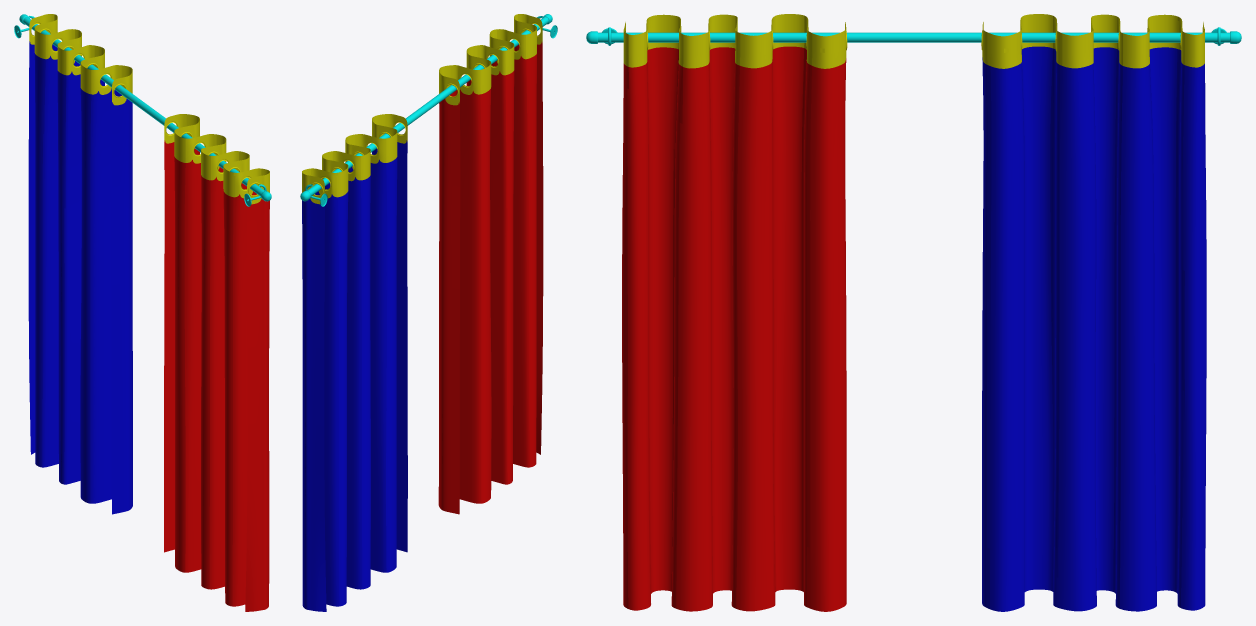
The model's file is OM_BHK_R_Curtain.fbx.
3 views of the same model, side by side, from view 1: azimuth 30°, elevation 25°; view 2: azimuth 150°, elevation 25°; view 3: azimuth 270°, elevation 25° (orthographic). The views are drawn at different scales.
Parts seen in each view (by area): view 1: OM_BHK_R_Curtain, OM_BHK_R_Curtain_Metal; view 2: OM_BHK_R_Curtain, OM_BHK_R_Curtain_Metal; view 3: OM_BHK_R_Curtain, OM_BHK_R_Curtain_Metal.
Part boxes in pixels (bbox=[...]): OM_BHK_R_Curtain: bbox=[28, 14, 269, 611]; OM_BHK_R_Curtain_Metal: bbox=[14, 14, 271, 206]; OM_BHK_R_Curtain: bbox=[302, 14, 543, 611]; OM_BHK_R_Curtain_Metal: bbox=[300, 14, 557, 206]; OM_BHK_R_Curtain: bbox=[622, 14, 1206, 611]; OM_BHK_R_Curtain_Metal: bbox=[586, 27, 1241, 45].
Size of the model in its own units: 0.5123 by 6.14 by 6.34.
